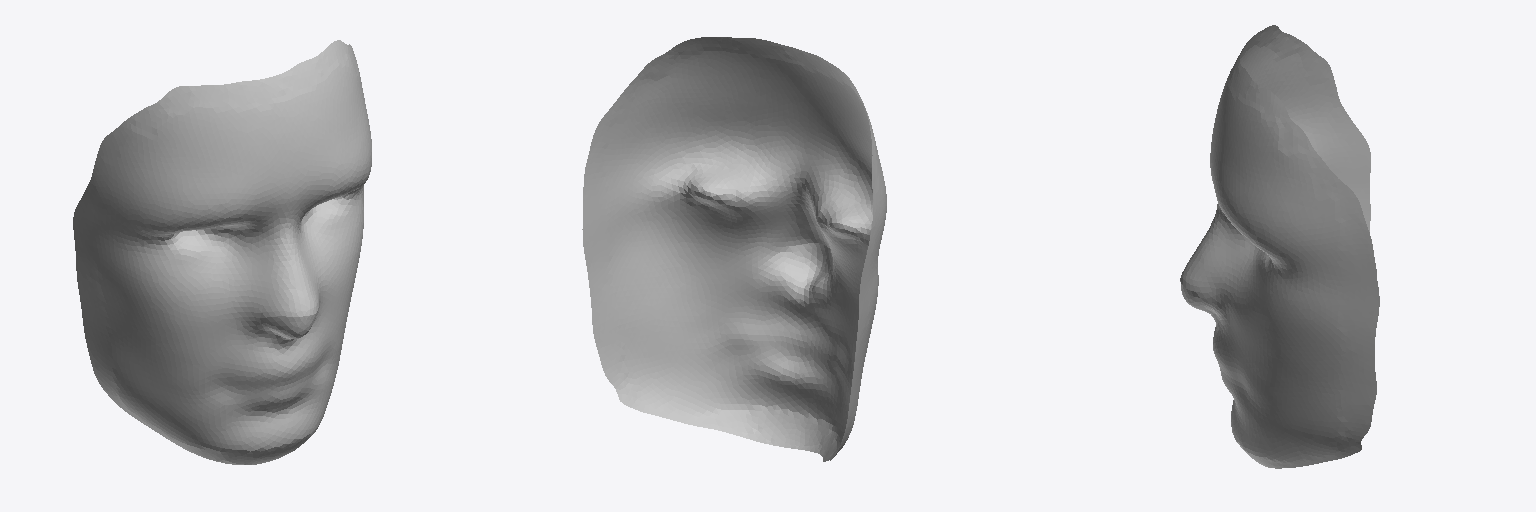
File: Robot_Base.obj
The picture shows the model from 3 angles: view 1: azimuth 30°, elevation 25°; view 2: azimuth 150°, elevation 25°; view 3: azimuth 270°, elevation 25°; orthographic projection.
Bounding box in the file's own units: 1.24 × 1.7 × 0.7751.